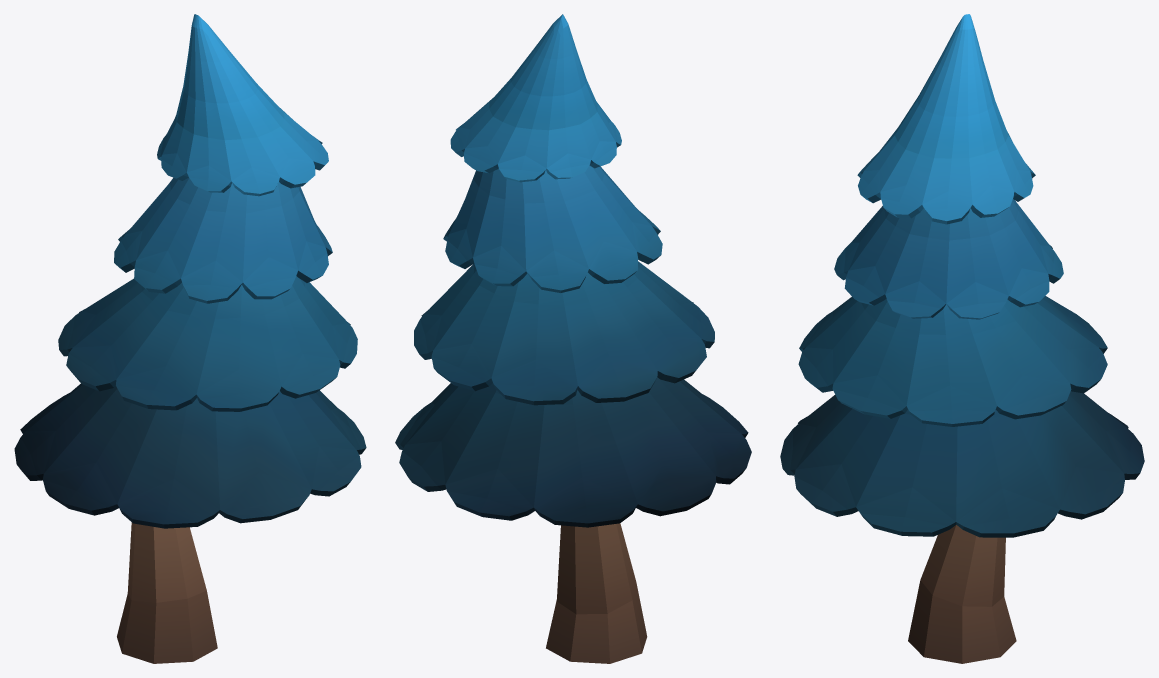
Rendered from arbol azul.fbx.
3 renders of one model, left to right at view 1: azimuth 30°, elevation 25°; view 2: azimuth 150°, elevation 25°; view 3: azimuth 270°, elevation 25°, orthographic. The views are drawn at different scales.
Visible parts, largest first — view 1: arbol; view 2: arbol; view 3: arbol.
Boxes of the visible parts, x1,y1,x2,y2 form: arbol: (14, 14, 366, 663); arbol: (395, 14, 751, 663); arbol: (780, 14, 1144, 663).
Size of the model in its own units: 901 by 1755 by 902.
Materials: 1 (1 with a texture image).
